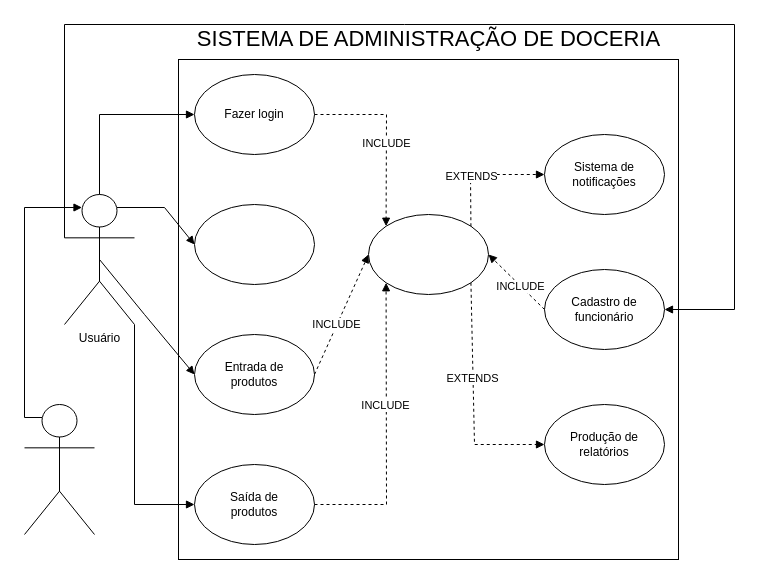
This 760x577 diagram has some shape labels left out. The centre of each missing label's shape, as x and y in pixels:
"Funcionário" belongs at pixel 59 469.
"Registro no Sistema" belongs at pixel 428 254.
"Verificar estoque" belongs at pixel 254 244.
